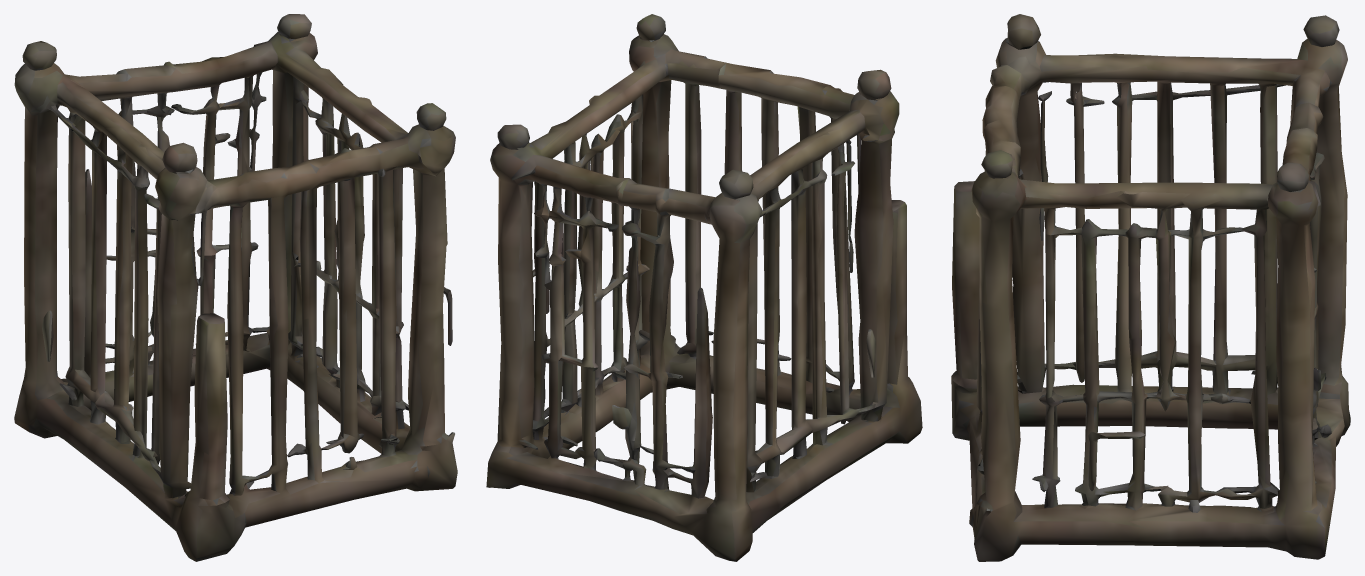
File: worn-wood-portcullis-v001.glb
3 views of the same model, side by side, from view 1: azimuth 30°, elevation 25°; view 2: azimuth 150°, elevation 25°; view 3: azimuth 270°, elevation 25° (orthographic). The views are drawn at different scales.
Visible parts, largest first — view 1: worn-wood-portcullis; view 2: worn-wood-portcullis; view 3: worn-wood-portcullis.
Part boxes in pixels (x1=…): worn-wood-portcullis: x1=14, y1=14, x2=457, y2=561; worn-wood-portcullis: x1=486, y1=14, x2=922, y2=561; worn-wood-portcullis: x1=951, y1=14, x2=1350, y2=561.
Bounding box in the file's own units: 2.54 × 2.56 × 2.21.
1 material, 1 textured.
